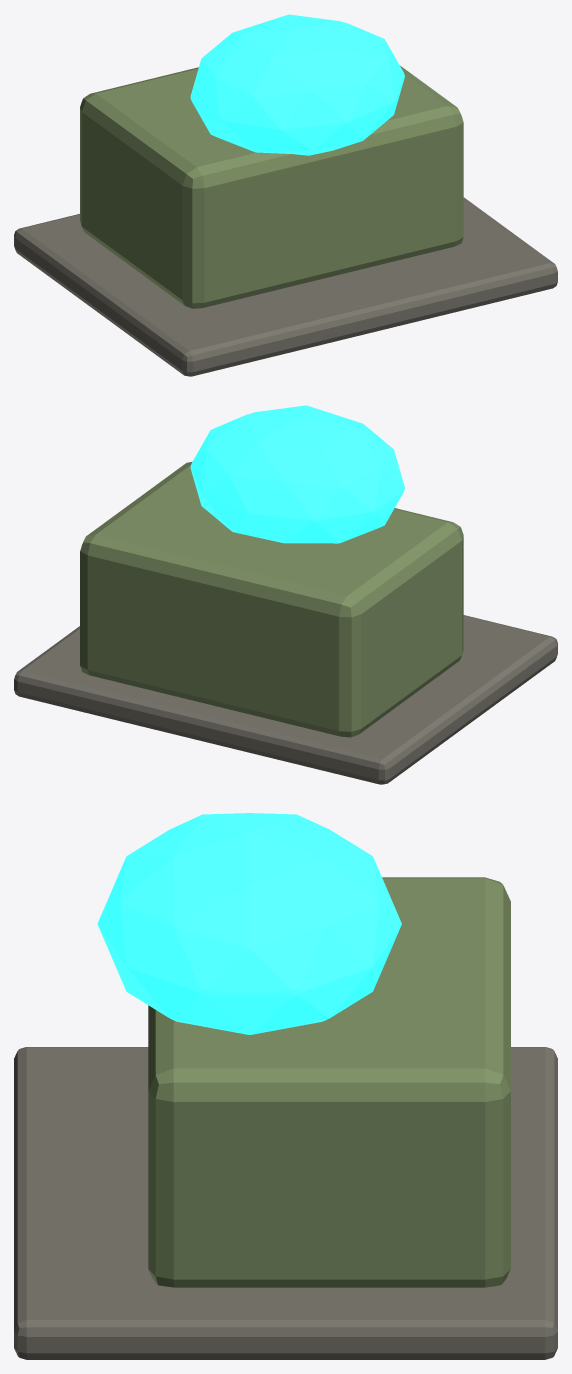
File: human_lab.glb
The picture shows the model from 3 angles, top to bottom: view 1: azimuth 30°, elevation 25°; view 2: azimuth 150°, elevation 25°; view 3: azimuth 270°, elevation 25°; orthographic projection. The views are drawn at different scales.
Visible parts, largest first — view 1: LabHull, Foundation, QuantumDome; view 2: LabHull, Foundation, QuantumDome; view 3: LabHull, Foundation, QuantumDome.
Part boxes in pixels (x1,y1,x2,y2): LabHull: (80, 65, 463, 308); Foundation: (14, 197, 557, 376); QuantumDome: (190, 14, 404, 155); LabHull: (80, 461, 463, 737); Foundation: (14, 615, 557, 784); QuantumDome: (190, 405, 404, 543); LabHull: (148, 877, 510, 1287); Foundation: (14, 1047, 557, 1359); QuantumDome: (97, 813, 401, 1034).
Bounding box in the file's own units: 1.85 × 1.19 × 1.5.
